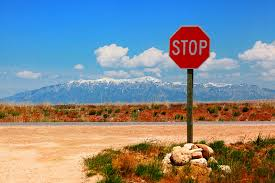stop_sign: (169, 26, 209, 67)
